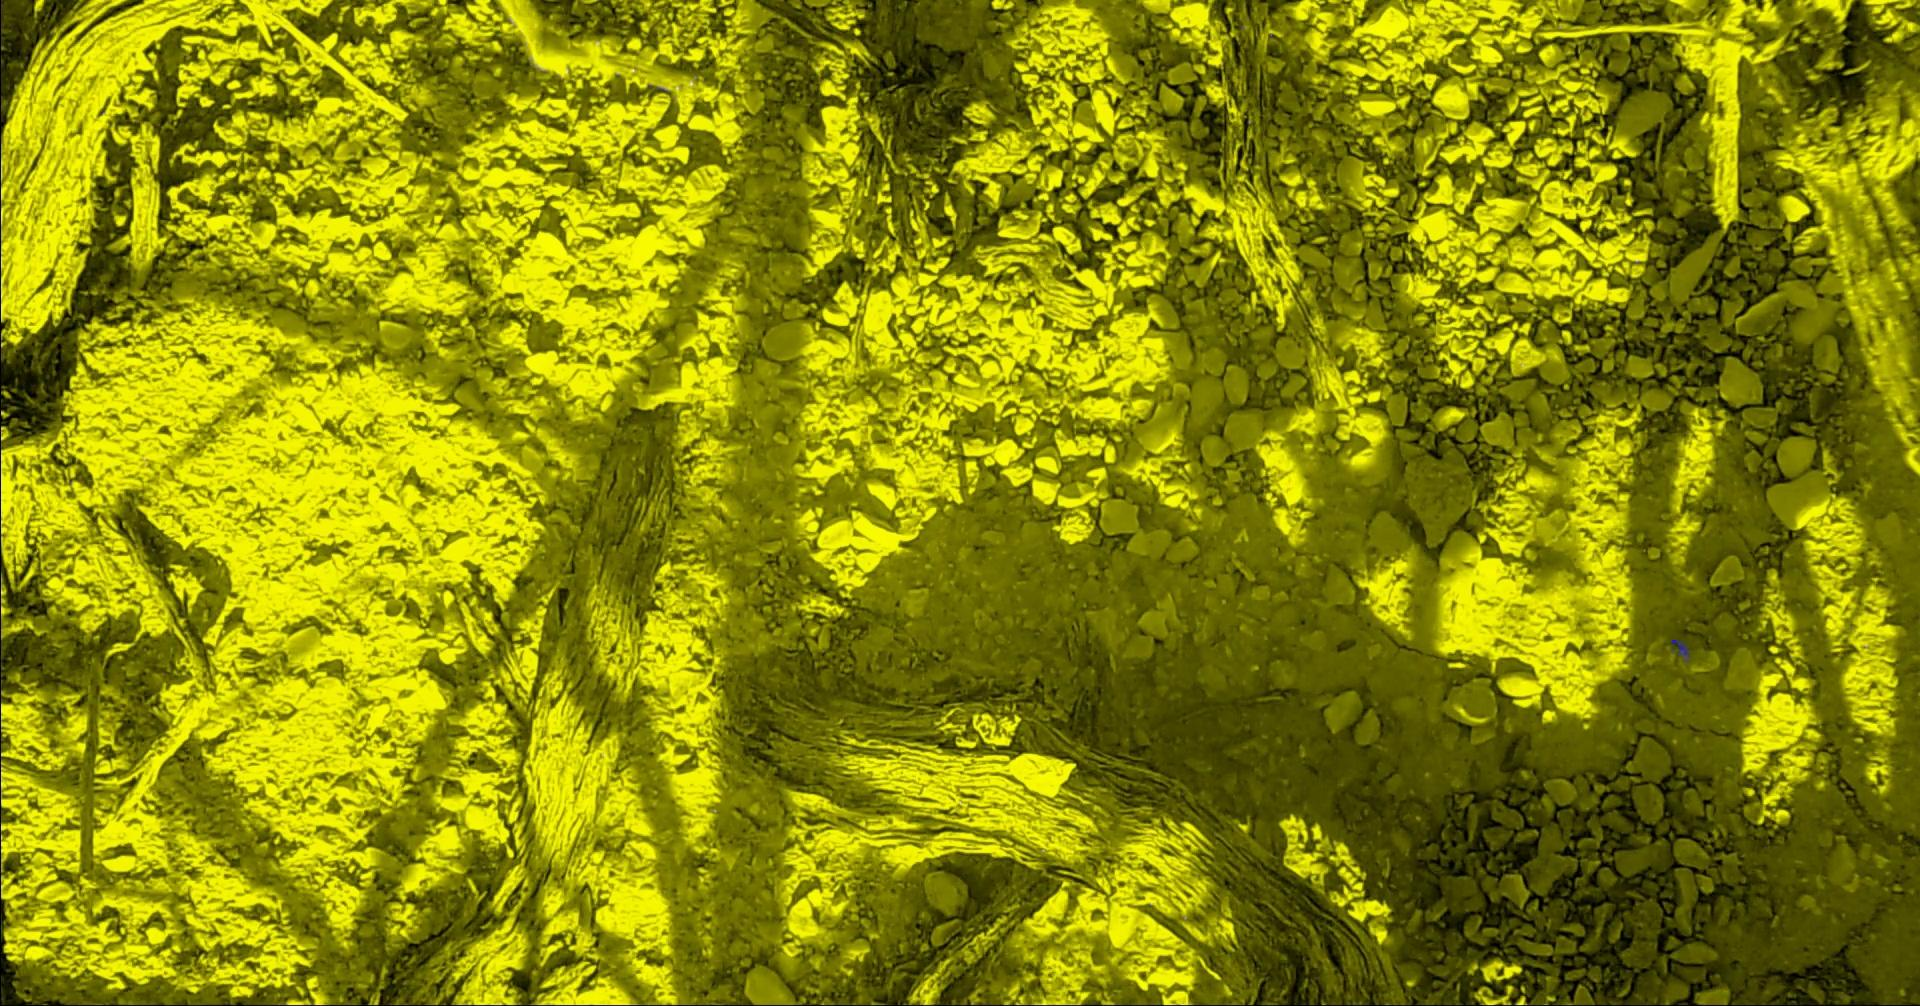ant: (1670, 638, 1689, 662)
